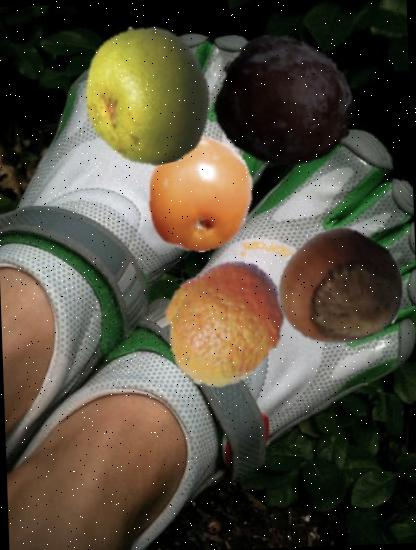Mandarine: (155, 254, 294, 393)
Nut: (278, 227, 406, 354)
Plum: (212, 30, 358, 178)
Pomelo: (74, 23, 221, 170)
Tomato: (139, 131, 263, 255)
